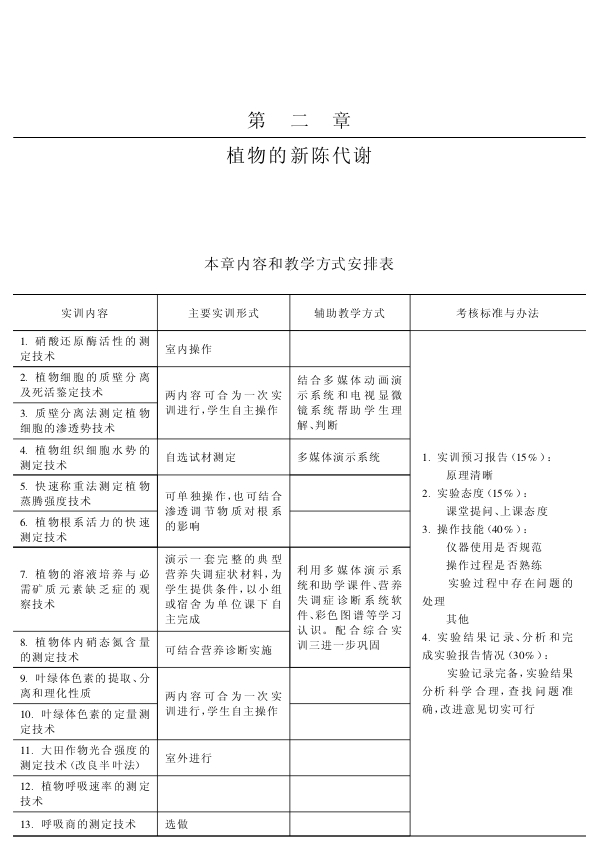table: (13, 294, 585, 837)
